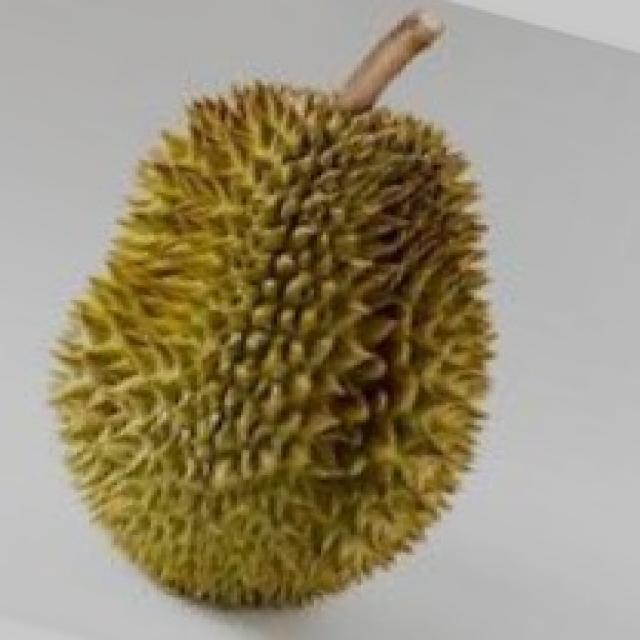fruit: (182, 265, 563, 640), (6, 267, 372, 640)
